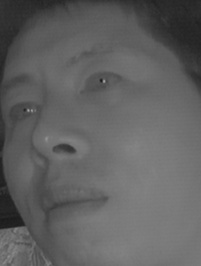eye: (77, 69, 124, 99), (2, 100, 43, 128)
mouth: (33, 184, 112, 228)
